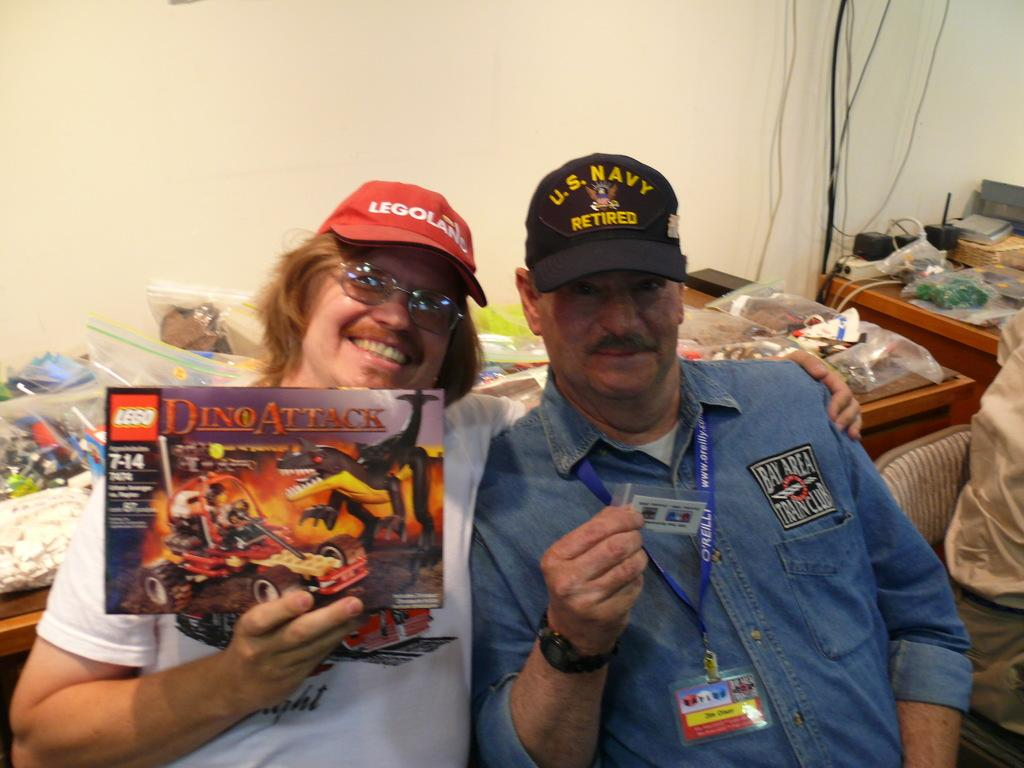Hat: (522, 152, 690, 288), (315, 180, 491, 309)
